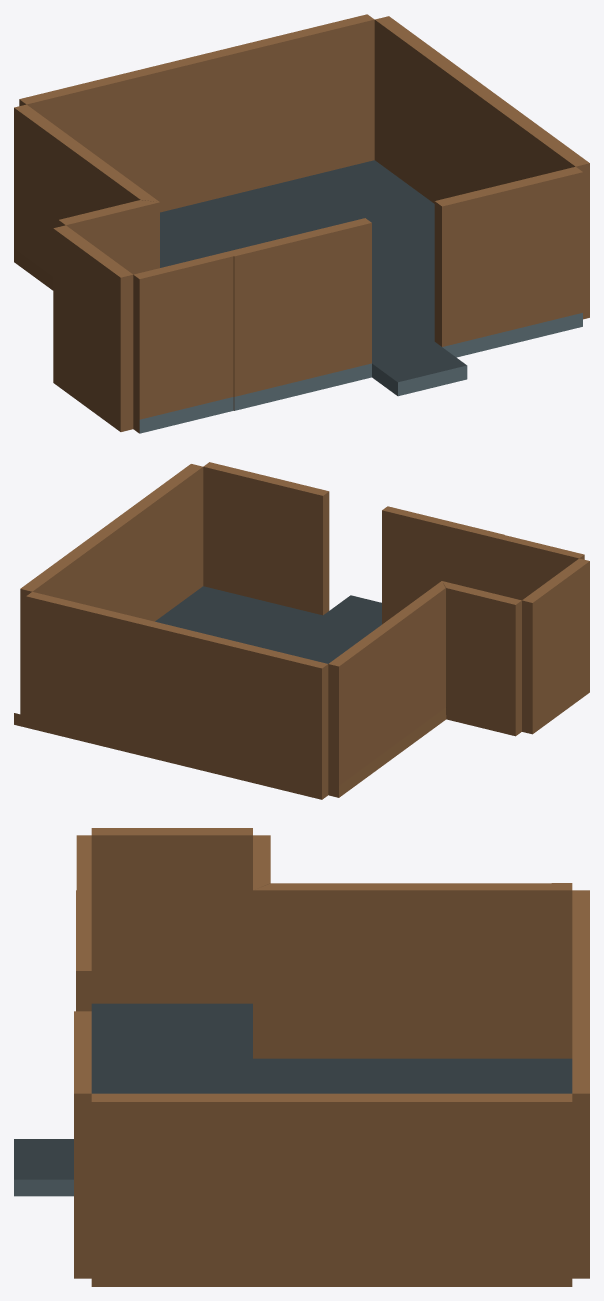
Rendered from TestHouse.glb.
3 renders of one model, top to bottom at view 1: azimuth 30°, elevation 25°; view 2: azimuth 150°, elevation 25°; view 3: azimuth 270°, elevation 25°, orthographic. The views are drawn at different scales.
Visible parts, largest first — view 1: Interieur; view 2: Interieur; view 3: Interieur.
Boxes of the visible parts, x1,y1,x2,y2 form: Interieur: (14,14,589,433); Interieur: (14,462,589,799); Interieur: (14,828,589,1286).
Bounding box in the file's own units: 9.56 × 3.01 × 8.5.
Materials: 1 (1 with a texture image).
